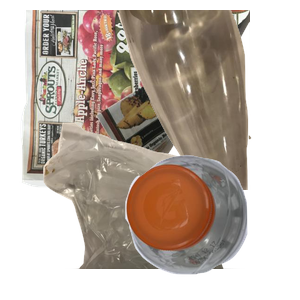glass: (115, 10, 300, 190)
paper: (18, 10, 258, 190)
plastic: (123, 152, 300, 300)
trash: (41, 120, 276, 300)
